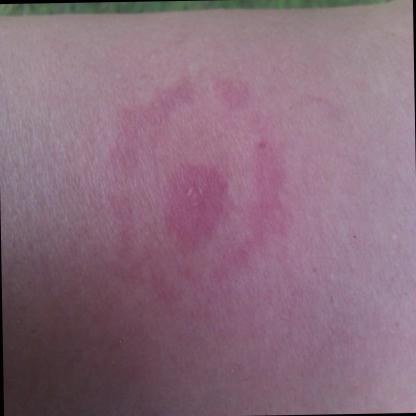Ringworm: (87, 45, 297, 325)
